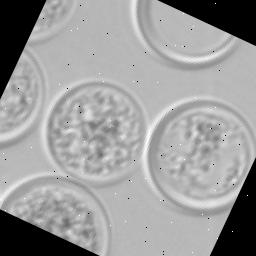picoshell: (140, 97, 256, 215), (39, 80, 146, 189), (0, 173, 110, 256), (128, 0, 237, 71), (0, 49, 45, 148), (0, 49, 45, 145), (26, 0, 76, 44)
